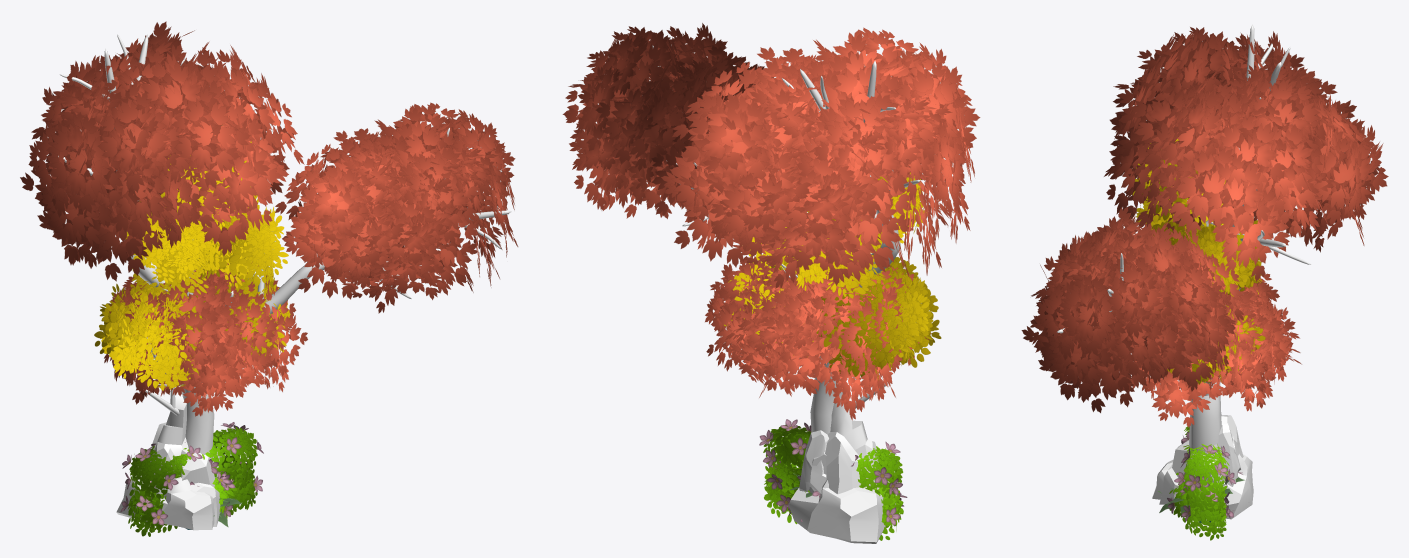
The model's file is nature_kit.glb.
3 views of the same model, side by side, from view 1: azimuth 30°, elevation 25°; view 2: azimuth 150°, elevation 25°; view 3: azimuth 270°, elevation 25° (orthographic). The views are drawn at different scales.
Visible parts, largest first — view 1: MapleTree_1, MapleTree_4, BirchTree_1, BirchTree_4, Bush_Large_Flowers, Rock_5, Bush_Small_Flowers, Rock_1; view 2: MapleTree_1, MapleTree_4, Rock_5, BirchTree_1, BirchTree_4, Bush_Large_Flowers, Bush_Small_Flowers; view 3: MapleTree_1, MapleTree_4, Bush_Large_Flowers, BirchTree_1, Rock_5, Bush_Small_Flowers, BirchTree_4, Rock_1, Bush_Flowers.
Boxes of the visible parts, bbox=[...] form: MapleTree_1: bbox=[20, 21, 518, 454]; MapleTree_4: bbox=[104, 263, 307, 416]; BirchTree_1: bbox=[94, 125, 289, 360]; BirchTree_4: bbox=[101, 224, 290, 390]; Bush_Large_Flowers: bbox=[122, 422, 263, 532]; Rock_5: bbox=[116, 394, 214, 530]; Bush_Small_Flowers: bbox=[120, 461, 262, 536]; Rock_1: bbox=[180, 452, 220, 526]; MapleTree_1: bbox=[562, 23, 980, 434]; MapleTree_4: bbox=[705, 256, 931, 420]; Rock_5: bbox=[788, 397, 885, 543]; BirchTree_1: bbox=[740, 172, 931, 369]; BirchTree_4: bbox=[723, 211, 941, 380]; Bush_Large_Flowers: bbox=[759, 419, 903, 528]; Bush_Small_Flowers: bbox=[764, 461, 907, 540]; MapleTree_1: bbox=[1021, 24, 1388, 455]; MapleTree_4: bbox=[1130, 272, 1301, 427]; Bush_Large_Flowers: bbox=[1180, 426, 1235, 535]; BirchTree_1: bbox=[1132, 139, 1262, 384]; Rock_5: bbox=[1152, 414, 1253, 519]; Bush_Small_Flowers: bbox=[1180, 485, 1230, 540]; BirchTree_4: bbox=[1152, 220, 1265, 384]; Rock_1: bbox=[1159, 440, 1190, 504]; Bush_Flowers: bbox=[1167, 472, 1242, 520].
Bounding box in the file's own units: 6.23 × 6.92 × 4.9.
7 materials, 4 textured.
